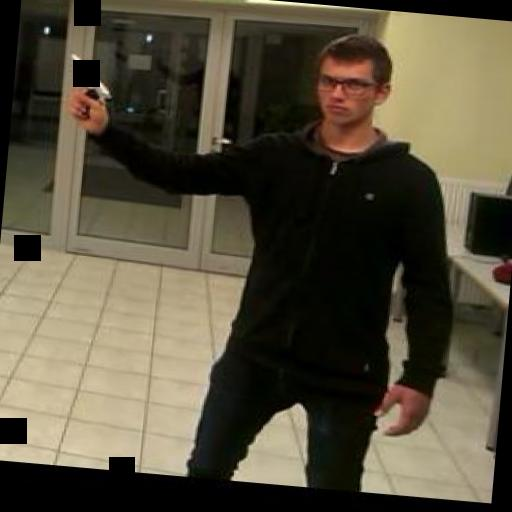Handgun: (55, 50, 118, 126)
